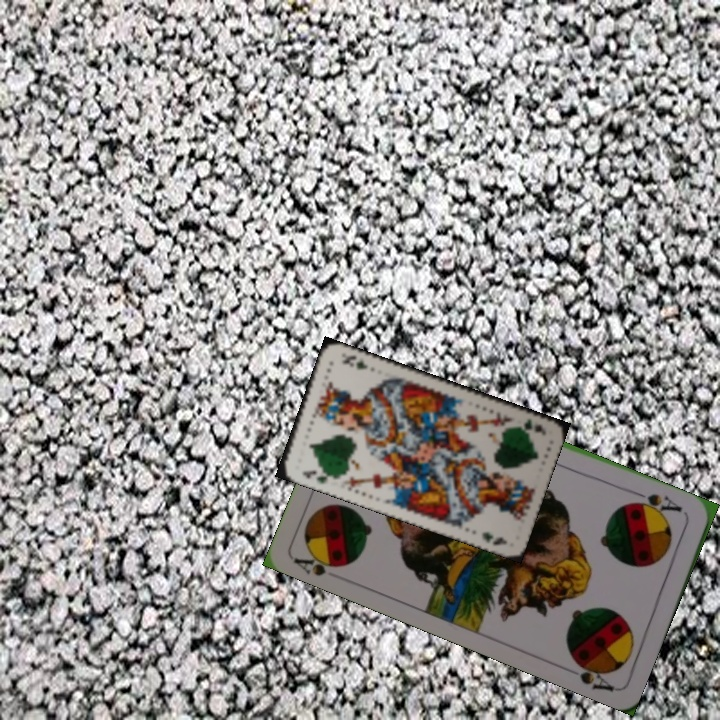GK: (511, 415, 549, 438), (298, 465, 334, 487)
SA: (290, 544, 351, 579), (628, 487, 685, 520)
